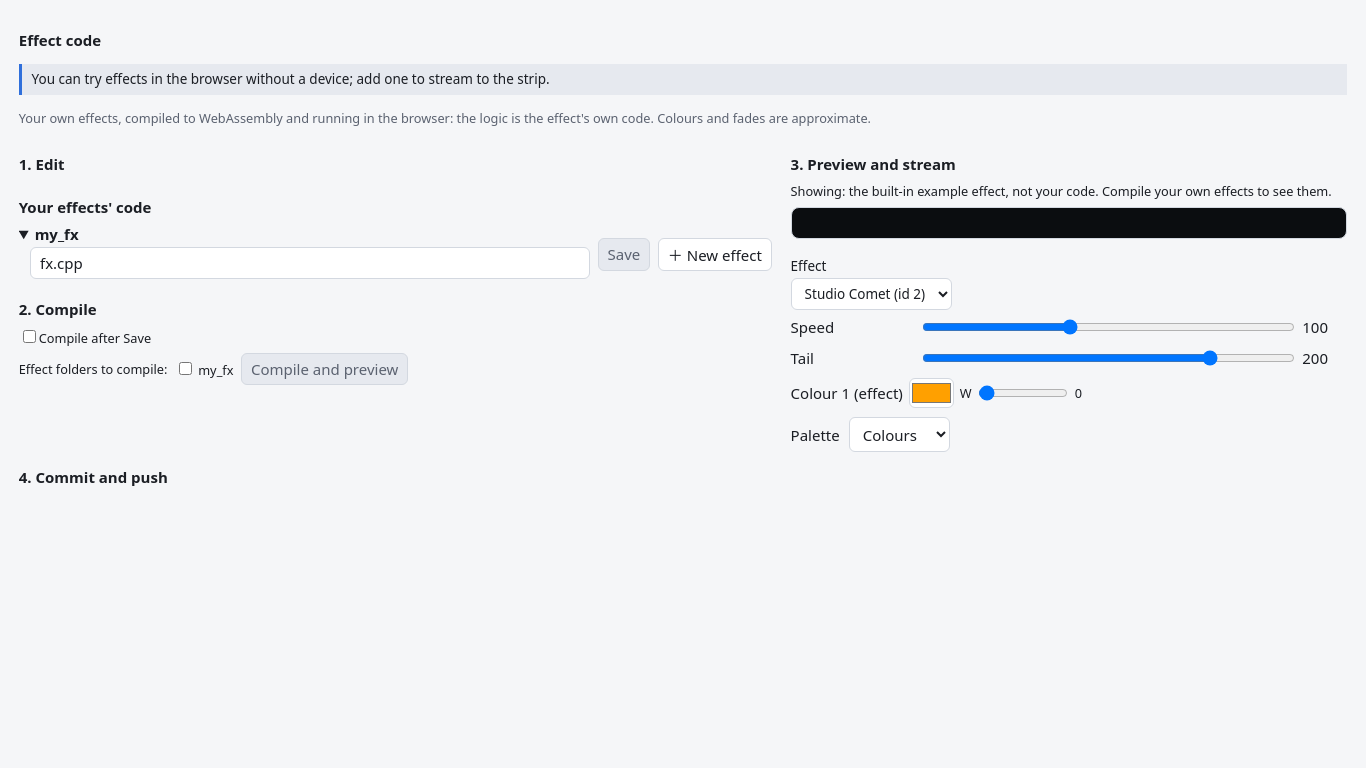
Test: a new effect's folder is ticked for compiling at once, and the studio's ids count as used
Check: the checkbox labelled "my_fx" is shown, box [179,362,192,375]
Click the button "＋ New effect": [715, 254] box [658,238,772,271]
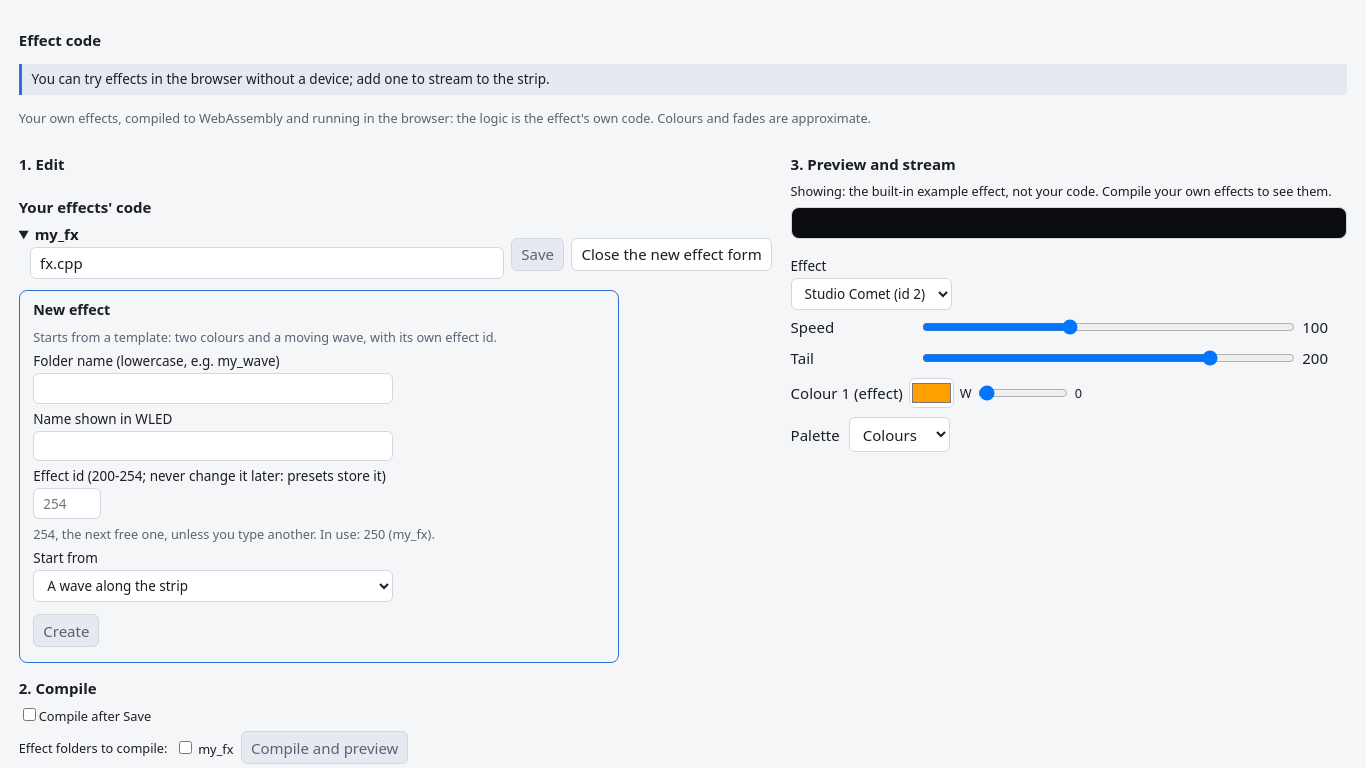
Check: the text "In use: 250 (my_fx)." is shown, box [320,525,435,543]
In the field labelled "Folder name (lowercase, e.g. my_wave)": [213, 389] box [33,373,393,404], type "new_fx"
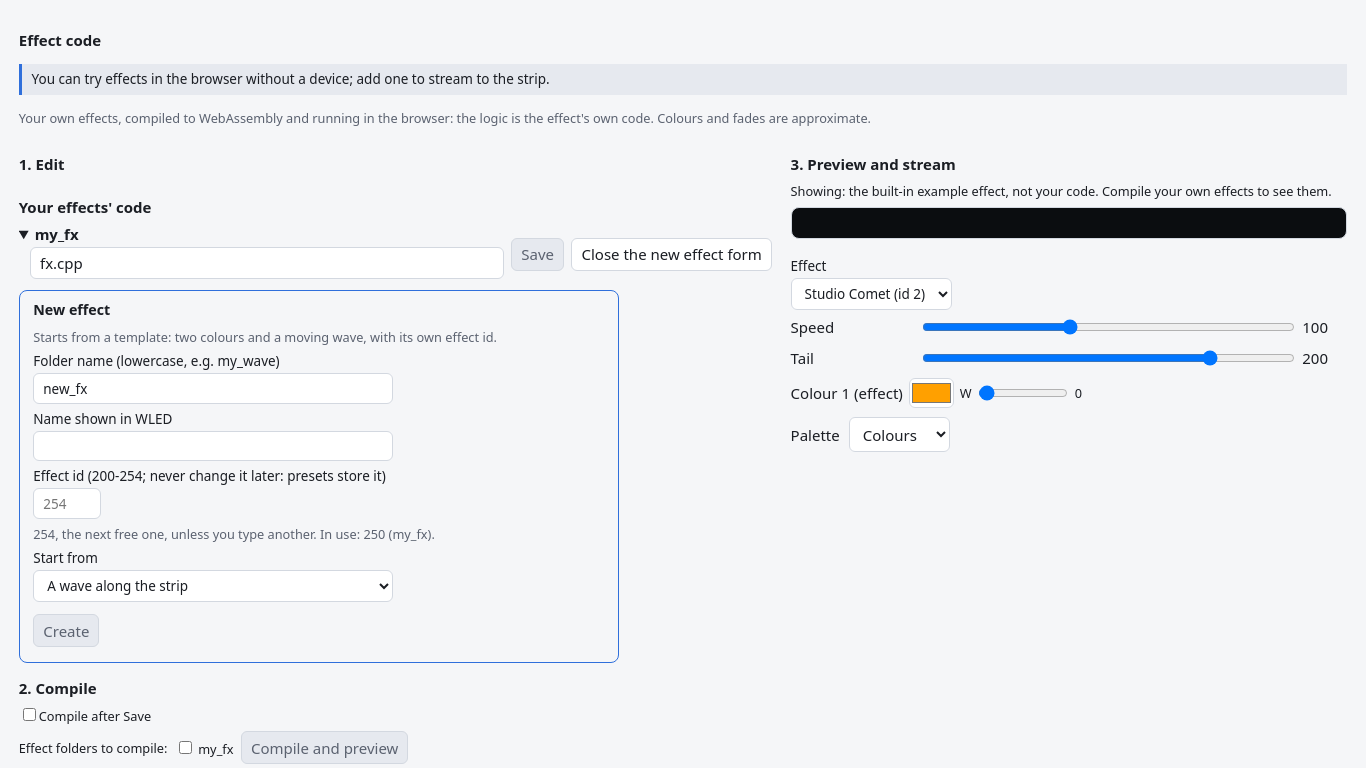
In the field labelled "Name shown in WLED": [213, 446] box [33,431,393,461], type "New Fx"
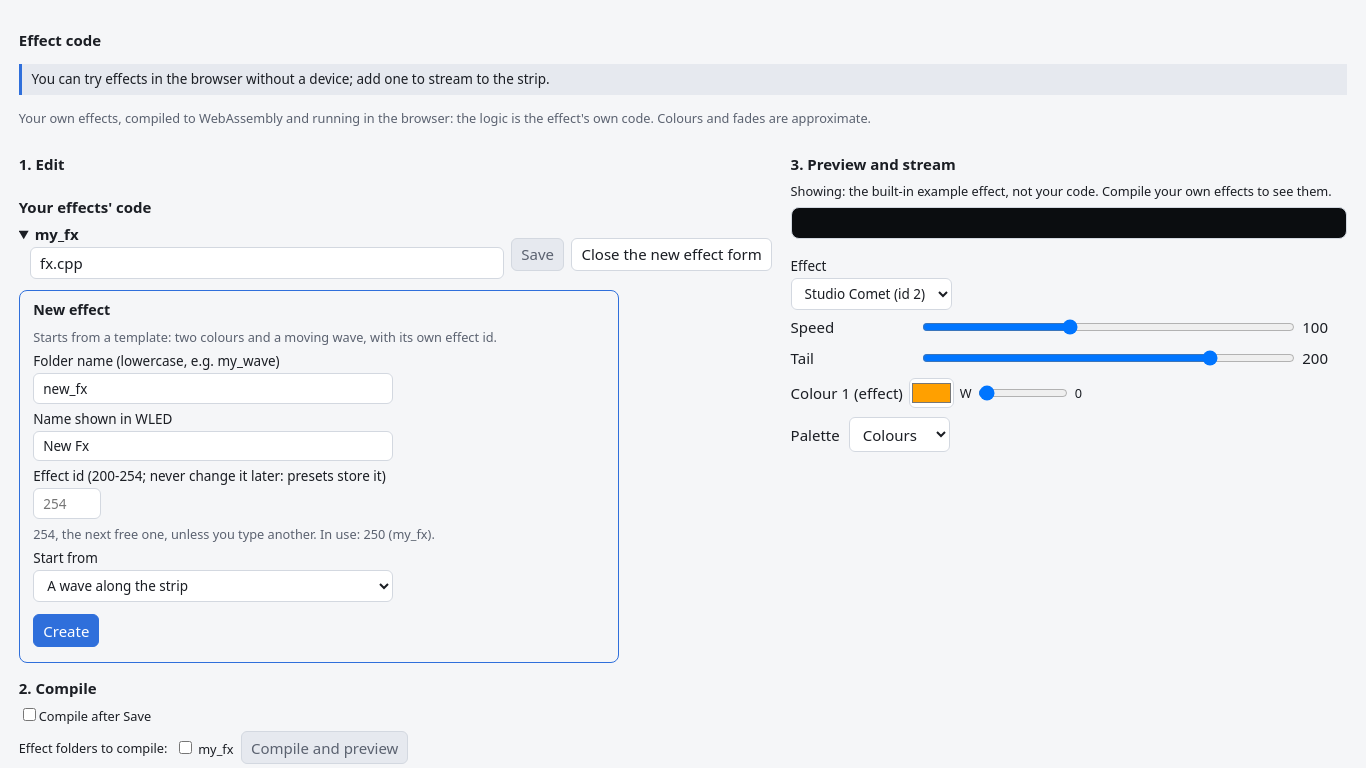
Click the button "Create": [66, 631] box [33,614,99,647]
(page scrolled)
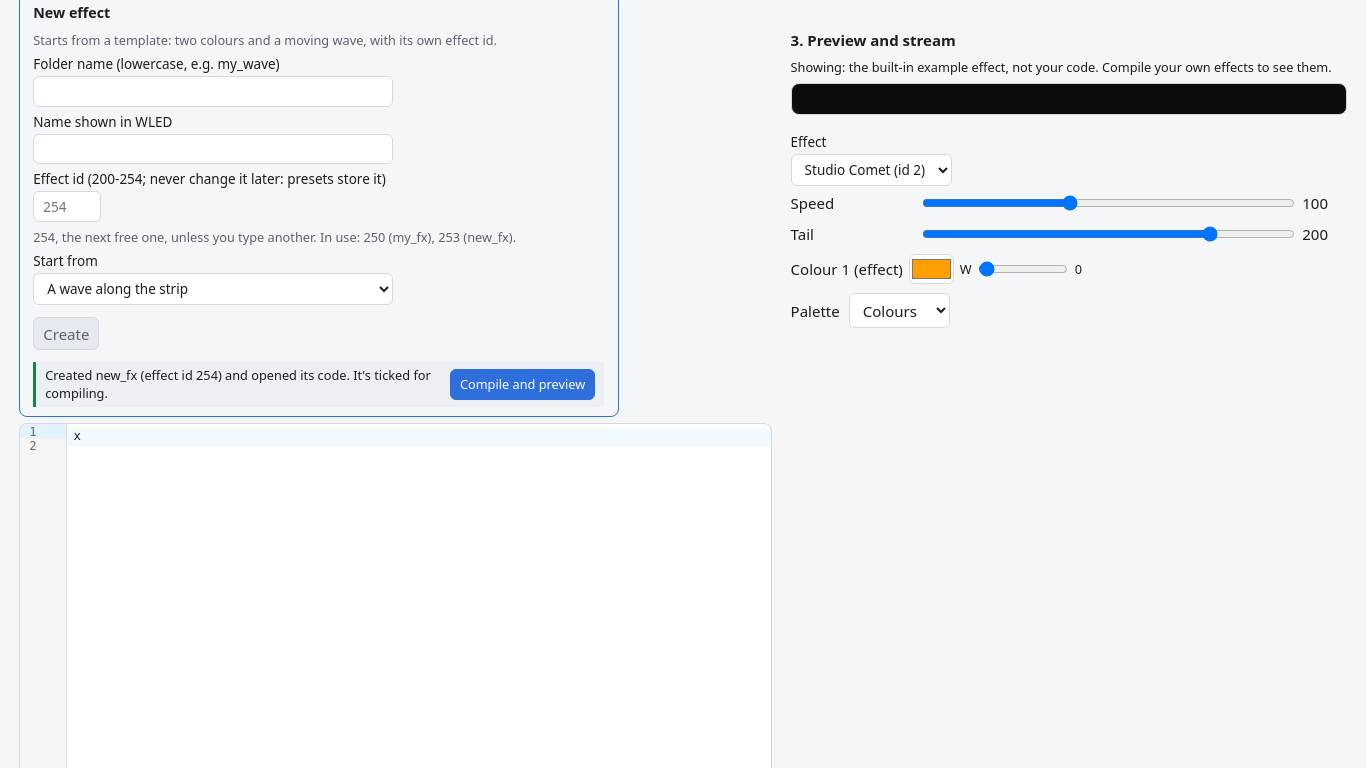
Check: the button "Compile and preview" is shown, box [450,369,595,400]
